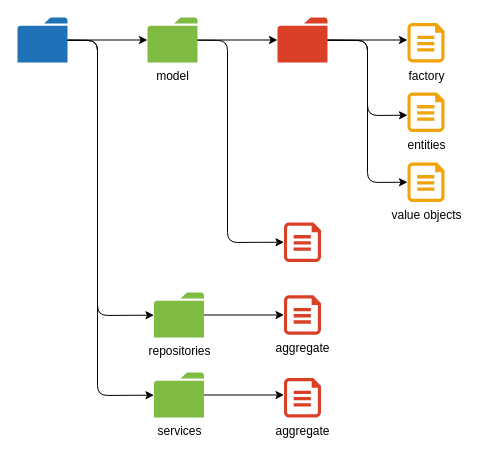
Image size: 478x455. Some labels were removed from this diagram. Here are the shapes that lost their labels. From the top down, the centre of each, then its label:
(x=42, y=39): domain
(x=302, y=39): big_aggregate
(x=302, y=241): small aggregate
